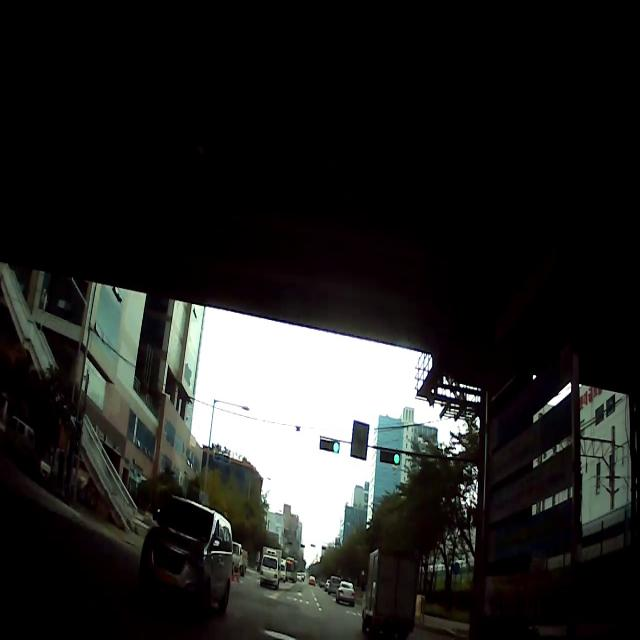Green Light: (332, 436, 342, 456), (392, 448, 401, 468)
